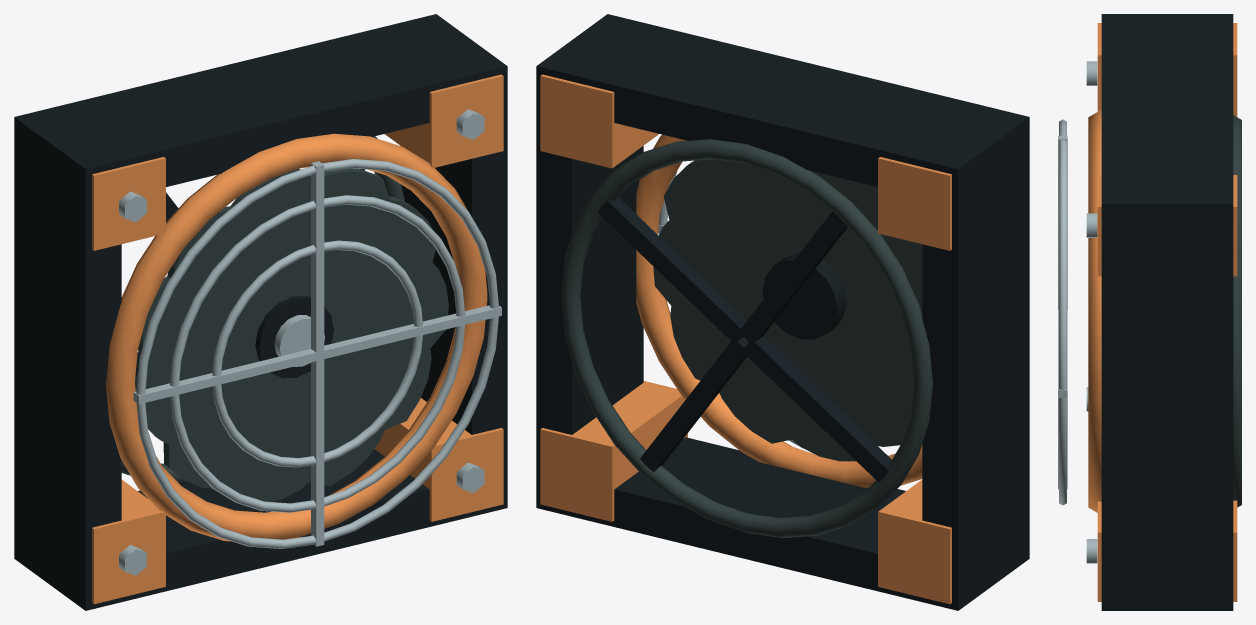
The model's file is fan-industrial-140.glb.
3 views of the same model, side by side, from view 1: azimuth 30°, elevation 25°; view 2: azimuth 150°, elevation 25°; view 3: azimuth 270°, elevation 25° (orthographic). The views are drawn at different scales.
Parts seen in each view (by area): view 1: Rubber and ABS, Anodized graphite, Industrial orange, Brushed aluminium, fan-rotor; view 2: Rubber and ABS (×2), Anodized graphite, Industrial orange, fan-industrial-140, fan-rotor; view 3: Rubber and ABS, Industrial orange, Brushed aluminium, fan-industrial-140.
Part boxes in pixels (left/top/right/bottom): Rubber and ABS: left=14, top=14, right=507, bottom=610; Anodized graphite: left=135, top=168, right=448, bottom=501; Industrial orange: left=92, top=74, right=503, bottom=604; Brushed aluminium: left=119, top=109, right=501, bottom=575; fan-rotor: left=255, top=296, right=333, bottom=378; Rubber and ABS (×2): left=536, top=14, right=1029, bottom=610; Anodized graphite: left=653, top=159, right=922, bottom=461; Industrial orange: left=540, top=74, right=951, bottom=604; fan-industrial-140: left=561, top=139, right=932, bottom=537; fan-rotor: left=762, top=253, right=846, bottom=339; Rubber and ABS: left=1101, top=14, right=1233, bottom=610; Industrial orange: left=1088, top=23, right=1237, bottom=601; Brushed aluminium: left=1058, top=61, right=1097, bottom=563; fan-industrial-140: left=1233, top=115, right=1241, bottom=507.
Bounding box in the file's own units: 1.16 × 1.16 × 0.4746.
